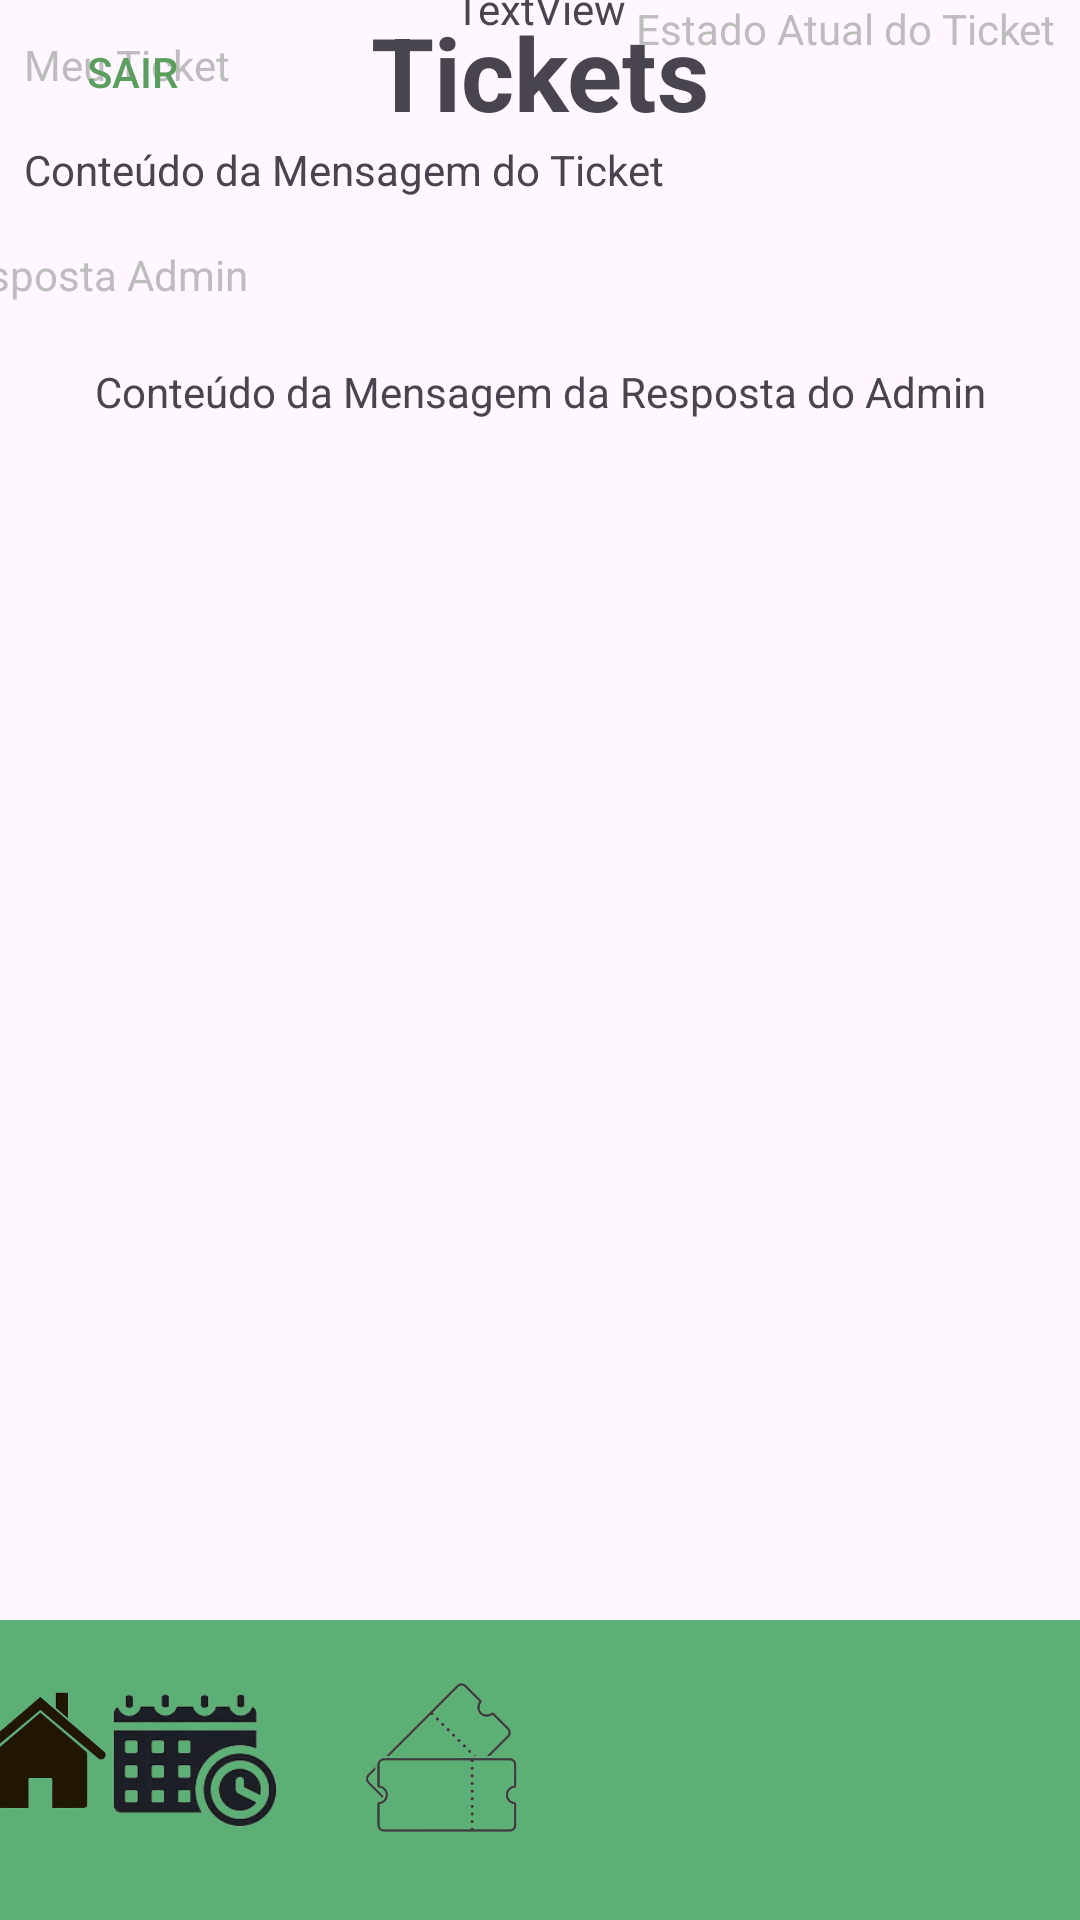

Named icons in this screenshot (1080w x 1920h) and their bounding boxes, (x1, y1, x2, y2):
reserva: (114, 1694, 276, 1826)
ticket: (366, 1683, 517, 1832)
